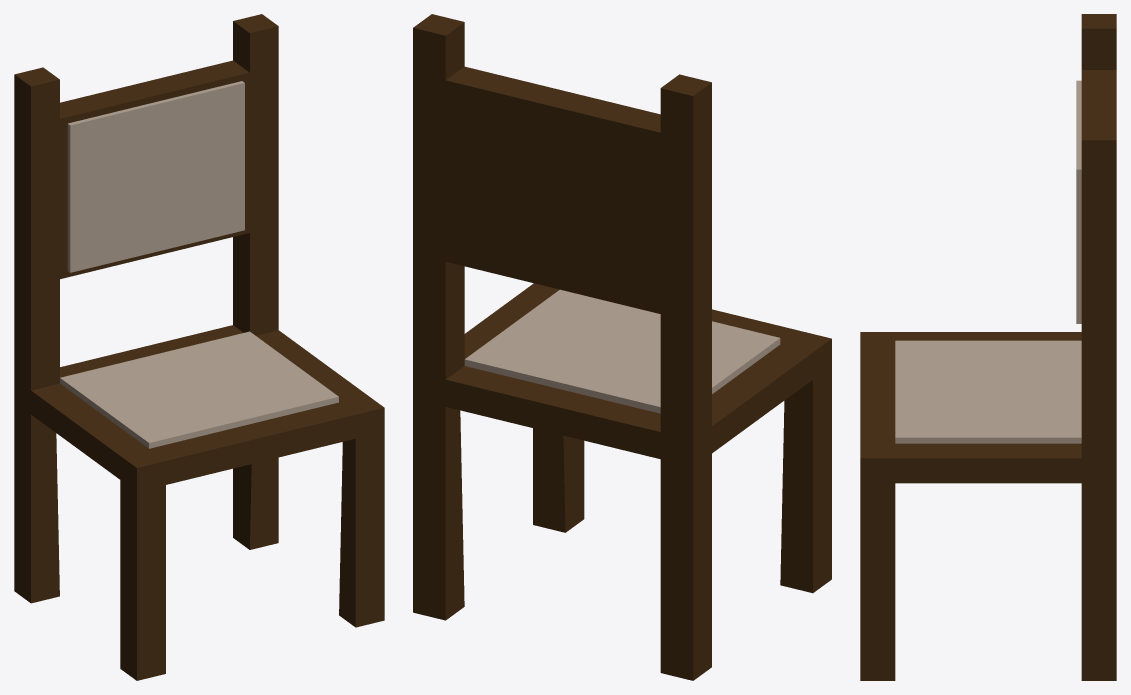
File: chair1.fbx
3 views of the same model, side by side, from view 1: azimuth 30°, elevation 25°; view 2: azimuth 150°, elevation 25°; view 3: azimuth 270°, elevation 25° (orthographic). The views are drawn at different scales.
Visible parts, largest first — view 1: chair; view 2: chair; view 3: chair.
Boxes of the visible parts, <box> form: chair: <box>14,14,384,680</box>; chair: <box>413,14,831,680</box>; chair: <box>860,14,1116,680</box>.
Bounding box in the file's own units: 140 × 279 × 120.
